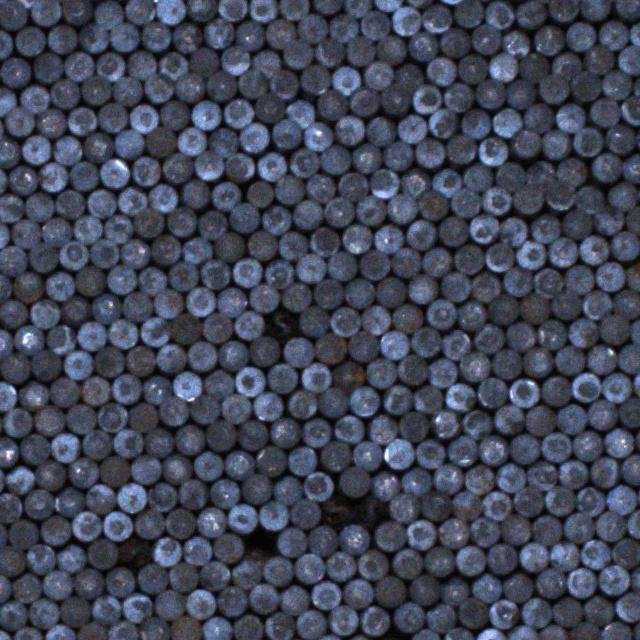tool: (435, 559, 480, 610), (48, 532, 96, 578), (262, 462, 312, 505), (273, 572, 317, 619), (0, 453, 44, 497), (47, 476, 90, 520), (332, 358, 366, 392), (412, 136, 447, 168), (461, 461, 494, 494), (358, 602, 392, 634), (10, 570, 42, 604), (560, 208, 594, 240), (254, 150, 288, 182), (588, 96, 622, 128), (486, 542, 519, 574), (531, 513, 564, 545), (195, 505, 227, 538), (160, 452, 193, 484), (572, 429, 604, 462), (32, 404, 65, 436), (507, 376, 540, 408), (144, 126, 177, 158), (557, 156, 590, 188), (270, 118, 303, 150), (222, 97, 255, 129), (601, 68, 634, 100), (255, 444, 286, 478), (166, 204, 197, 238), (510, 183, 544, 214), (356, 548, 388, 580), (605, 483, 637, 515), (566, 316, 598, 348), (518, 292, 550, 324), (528, 211, 560, 243), (580, 288, 612, 320), (556, 101, 588, 133), (204, 69, 236, 101), (566, 19, 598, 51), (202, 16, 234, 48), (73, 567, 106, 598), (82, 428, 113, 461), (205, 418, 236, 451), (381, 383, 414, 414), (222, 152, 255, 183), (536, 73, 569, 104), (393, 59, 426, 90), (442, 82, 476, 112), (457, 597, 488, 629), (519, 596, 551, 627), (8, 516, 39, 548), (374, 575, 406, 606), (167, 560, 198, 592), (261, 555, 293, 586), (548, 541, 580, 572), (500, 512, 531, 544), (451, 489, 483, 520), (146, 480, 178, 511), (526, 460, 558, 491), (524, 404, 556, 435), (65, 402, 96, 434), (133, 206, 164, 238), (521, 347, 553, 378), (283, 335, 315, 366), (375, 274, 406, 306), (406, 273, 438, 304), (150, 234, 182, 265), (341, 223, 373, 254), (228, 202, 260, 233), (322, 194, 354, 225), (416, 189, 448, 220), (598, 314, 630, 345), (99, 158, 130, 190), (159, 99, 191, 130), (94, 50, 126, 81), (108, 21, 140, 52), (141, 20, 172, 52), (591, 152, 622, 184), (540, 129, 572, 160), (572, 126, 604, 157), (238, 121, 270, 152), (428, 107, 460, 138), (492, 107, 524, 138), (523, 101, 555, 132), (190, 99, 222, 130), (505, 78, 537, 109), (488, 50, 519, 82), (470, 23, 502, 54), (99, 454, 132, 484), (408, 573, 438, 606), (456, 543, 486, 576), (437, 518, 470, 548), (15, 379, 48, 409), (62, 349, 95, 379), (444, 382, 477, 412), (173, 368, 203, 401), (165, 260, 198, 290), (212, 230, 245, 260), (384, 193, 417, 223), (448, 187, 481, 217), (363, 115, 396, 145), (348, 86, 381, 116), (457, 297, 486, 331), (278, 282, 312, 311), (121, 591, 152, 622), (153, 589, 184, 620), (325, 550, 356, 581), (406, 518, 437, 549), (494, 460, 525, 491), (383, 437, 414, 468), (415, 438, 446, 469), (447, 434, 478, 465), (509, 432, 540, 463), (173, 423, 204, 454), (579, 539, 610, 570), (141, 372, 172, 403), (124, 345, 155, 376), (490, 348, 521, 379), (347, 331, 378, 362), (425, 299, 456, 330), (533, 266, 564, 297), (197, 208, 228, 239), (36, 107, 67, 138), (289, 146, 320, 177), (344, 35, 375, 66), (376, 34, 407, 65), (265, 18, 296, 49), (297, 12, 328, 43), (489, 598, 519, 630), (550, 597, 582, 627), (28, 597, 60, 627), (50, 431, 80, 463), (186, 588, 216, 620), (502, 570, 532, 602), (536, 567, 566, 599), (198, 560, 230, 590), (229, 559, 261, 589), (212, 533, 244, 563), (276, 525, 306, 557), (338, 522, 368, 554), (373, 520, 405, 550), (482, 488, 512, 520), (544, 485, 576, 515), (320, 440, 352, 470), (351, 440, 383, 470), (268, 416, 300, 446), (366, 414, 398, 444), (599, 564, 629, 596), (96, 401, 128, 431), (138, 316, 170, 346), (152, 287, 184, 317), (12, 272, 44, 302), (251, 391, 283, 421), (348, 386, 380, 416), (300, 361, 332, 391), (217, 340, 249, 370), (504, 321, 536, 351), (200, 312, 232, 342), (391, 302, 423, 332), (470, 270, 500, 302), (232, 256, 262, 288), (358, 249, 390, 279), (405, 219, 437, 249), (544, 180, 576, 210), (595, 260, 625, 292), (608, 230, 640, 260), (116, 185, 148, 215), (8, 164, 38, 196), (131, 155, 161, 187), (162, 153, 194, 183), (0, 56, 32, 86), (157, 50, 189, 80), (48, 21, 78, 53), (494, 162, 526, 192), (604, 124, 636, 154), (303, 120, 333, 152), (334, 114, 364, 146), (253, 92, 285, 122), (411, 84, 443, 114), (236, 66, 266, 98), (520, 52, 552, 82), (408, 30, 440, 60), (534, 22, 564, 54), (597, 20, 629, 50), (584, 592, 613, 625), (308, 226, 341, 255), (275, 173, 304, 206), (353, 141, 382, 174), (328, 604, 358, 635), (426, 602, 456, 633), (42, 570, 73, 600), (71, 511, 102, 541), (86, 483, 116, 514), (34, 459, 65, 489), (217, 586, 247, 617), (568, 566, 598, 597), (424, 546, 455, 576), (150, 536, 180, 567), (182, 534, 212, 565), (307, 526, 338, 556), (557, 459, 588, 489), (223, 449, 253, 480), (143, 427, 173, 458), (237, 420, 268, 450), (399, 411, 430, 441), (556, 403, 586, 434), (610, 537, 640, 568), (596, 511, 626, 542), (588, 398, 618, 429), (49, 376, 80, 406), (31, 350, 62, 380), (94, 345, 124, 376), (90, 292, 120, 323), (122, 290, 152, 321), (44, 270, 74, 301), (106, 263, 136, 294), (287, 388, 317, 419), (317, 387, 348, 417), (541, 375, 571, 406), (398, 354, 428, 385), (427, 356, 457, 387), (554, 344, 584, 375), (155, 344, 186, 374), (473, 323, 504, 353), (536, 318, 566, 349), (439, 270, 470, 300), (198, 258, 229, 288), (295, 252, 325, 283), (182, 235, 213, 265), (260, 202, 290, 233), (481, 184, 512, 214), (601, 371, 632, 401), (586, 343, 616, 374), (68, 161, 99, 191), (84, 132, 114, 163), (126, 49, 157, 79), (180, 178, 211, 208), (463, 161, 493, 192), (321, 144, 352, 174), (446, 133, 477, 163), (477, 136, 508, 166), (176, 125, 206, 156), (396, 113, 427, 143), (459, 108, 490, 138), (300, 64, 330, 95), (456, 53, 487, 83), (440, 27, 470, 58), (234, 20, 265, 50), (391, 4, 421, 35), (422, 3, 453, 33), (516, 0, 547, 30), (264, 611, 296, 640), (0, 598, 29, 630), (60, 596, 92, 625), (86, 538, 118, 567), (68, 457, 100, 486), (249, 582, 278, 614), (136, 563, 168, 592), (294, 552, 323, 584), (563, 512, 595, 541), (338, 466, 370, 495), (130, 454, 162, 483), (126, 402, 158, 431), (75, 264, 104, 296), (439, 329, 471, 358), (312, 279, 344, 308), (452, 244, 484, 273), (245, 229, 277, 258), (438, 215, 470, 244), (51, 135, 83, 164), (80, 74, 112, 103), (14, 25, 46, 54), (206, 127, 238, 156), (267, 70, 299, 99), (399, 168, 432, 196), (394, 601, 424, 631), (106, 566, 136, 596), (103, 510, 133, 540), (117, 482, 147, 512), (113, 428, 143, 458), (342, 577, 372, 607), (472, 572, 502, 602), (392, 548, 422, 578), (470, 517, 500, 547), (390, 492, 420, 522), (513, 486, 543, 516), (208, 478, 238, 508), (401, 466, 431, 496), (76, 320, 106, 350), (28, 241, 58, 271), (40, 215, 70, 245), (158, 395, 188, 425), (221, 393, 251, 423), (267, 362, 297, 392), (366, 357, 396, 387), (459, 350, 489, 380), (187, 341, 217, 371), (249, 336, 279, 366), (315, 333, 345, 363), (232, 310, 262, 340), (488, 294, 518, 324), (249, 282, 279, 312), (503, 266, 533, 296), (564, 264, 594, 294), (484, 241, 514, 271), (278, 230, 308, 260), (373, 222, 403, 252), (606, 180, 636, 210), (24, 191, 54, 221), (87, 188, 117, 218), (149, 183, 179, 213), (21, 134, 51, 164), (5, 106, 35, 136), (98, 102, 128, 132), (129, 103, 159, 133), (50, 78, 80, 108), (113, 76, 143, 106), (34, 52, 64, 82), (64, 50, 94, 80), (383, 140, 413, 170), (317, 89, 347, 119), (571, 70, 601, 100), (189, 46, 219, 76), (220, 44, 250, 74), (314, 36, 344, 66), (500, 27, 530, 57), (328, 13, 358, 43), (91, 594, 120, 625), (40, 515, 71, 544), (179, 478, 208, 509), (333, 414, 364, 443), (1, 408, 32, 437), (109, 373, 140, 402), (13, 325, 44, 354), (46, 324, 75, 355), (108, 318, 137, 349), (189, 394, 220, 423), (235, 366, 266, 395), (410, 326, 439, 357), (329, 306, 360, 335), (361, 304, 390, 335), (344, 278, 375, 307), (515, 240, 546, 269), (579, 234, 608, 265), (55, 189, 86, 218), (38, 161, 67, 192), (144, 73, 175, 102), (79, 22, 108, 53), (305, 173, 336, 202), (368, 169, 399, 198), (379, 85, 410, 114), (361, 10, 392, 39), (88, 238, 120, 266), (572, 370, 600, 402), (216, 286, 248, 314), (263, 258, 295, 286), (420, 246, 452, 274), (612, 288, 640, 320), (18, 84, 50, 112), (512, 126, 540, 158), (296, 609, 325, 639), (26, 543, 55, 573), (24, 489, 54, 518), (21, 433, 50, 463), (311, 581, 341, 610), (135, 508, 164, 538), (258, 500, 288, 529), (290, 499, 320, 528), (421, 490, 451, 519), (241, 473, 270, 503), (371, 470, 400, 500), (433, 463, 462, 493), (478, 434, 507, 464), (301, 418, 331, 447), (494, 404, 523, 434), (576, 486, 605, 516), (590, 456, 619, 486), (80, 374, 109, 404), (136, 265, 166, 294), (9, 219, 39, 248), (72, 214, 102, 243), (476, 377, 506, 406), (380, 330, 410, 359), (594, 205, 624, 234), (114, 129, 144, 158), (475, 78, 504, 108), (364, 60, 394, 89), (426, 56, 456, 85), (553, 51, 583, 80), (584, 44, 614, 73), (251, 48, 281, 77), (283, 39, 312, 69), (172, 22, 201, 52), (519, 541, 547, 572), (431, 409, 462, 437), (186, 286, 217, 314), (326, 252, 357, 280), (547, 237, 578, 265), (431, 168, 462, 196), (175, 71, 203, 102), (454, 0, 485, 28), (165, 508, 194, 537), (304, 471, 333, 500), (604, 428, 633, 457), (59, 240, 88, 269), (299, 306, 328, 335), (356, 194, 385, 223), (211, 181, 240, 210), (527, 159, 556, 188), (331, 65, 360, 94), (227, 504, 257, 532), (194, 450, 222, 480), (542, 430, 570, 460), (102, 214, 132, 242), (170, 314, 200, 342), (338, 171, 368, 199), (194, 150, 222, 180), (285, 98, 315, 126), (0, 243, 27, 274), (292, 200, 323, 227), (93, 0, 124, 27), (288, 445, 316, 474), (462, 408, 491, 436), (1, 354, 30, 382), (30, 299, 59, 327), (60, 296, 89, 324), (204, 368, 233, 396), (551, 290, 580, 318), (499, 216, 528, 244), (68, 106, 97, 134), (232, 613, 262, 640), (0, 298, 27, 328), (0, 0, 27, 30), (0, 544, 25, 576), (155, 0, 187, 25), (169, 616, 202, 640), (576, 184, 604, 212), (246, 180, 274, 208), (486, 0, 514, 28), (120, 239, 149, 266), (392, 247, 419, 276), (202, 614, 232, 640), (614, 590, 640, 620), (30, 0, 61, 25), (414, 384, 442, 411), (470, 214, 498, 241), (0, 192, 24, 223), (62, 0, 92, 24), (125, 0, 155, 24), (617, 44, 640, 75), (0, 136, 22, 168), (548, 0, 580, 22), (248, 0, 280, 22), (616, 344, 640, 373), (0, 492, 23, 522), (617, 396, 640, 426), (215, 0, 248, 20), (619, 453, 640, 484), (568, 621, 602, 640), (140, 617, 168, 640), (580, 0, 612, 20), (186, 0, 216, 21), (279, 0, 308, 20), (44, 623, 78, 640), (108, 621, 138, 640), (602, 621, 632, 640), (0, 436, 19, 466), (621, 153, 640, 183), (341, 0, 372, 18), (622, 94, 640, 125), (614, 0, 640, 21), (624, 258, 640, 292), (76, 622, 106, 640), (310, 0, 341, 16), (538, 623, 567, 640), (625, 508, 640, 540), (0, 379, 15, 411), (624, 204, 640, 234), (0, 86, 16, 116), (12, 626, 44, 640), (508, 625, 537, 640), (444, 626, 474, 640), (0, 29, 13, 58), (0, 273, 12, 302), (0, 328, 12, 356), (372, 0, 402, 11)
tool_b: (305, 480, 399, 537), (109, 523, 162, 575), (364, 617, 422, 640), (266, 307, 300, 340)
void: (233, 516, 287, 568)
